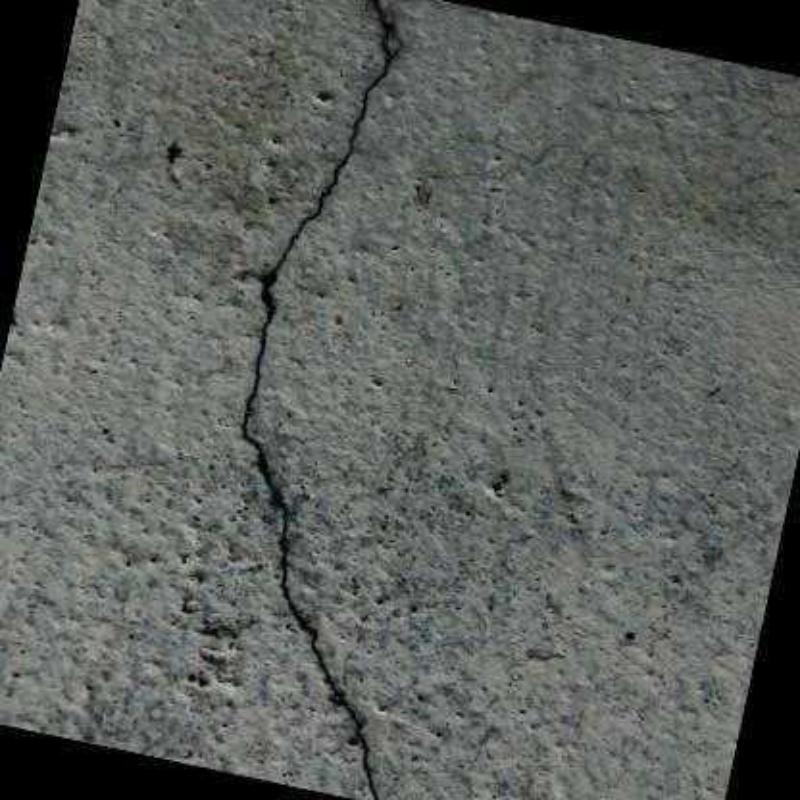pothole: (244, 1, 392, 799), (446, 129, 575, 223), (594, 73, 798, 119)
